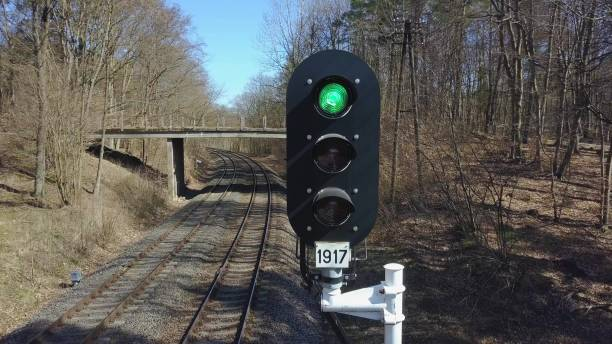Traffic Signal: (284, 43, 378, 249)
